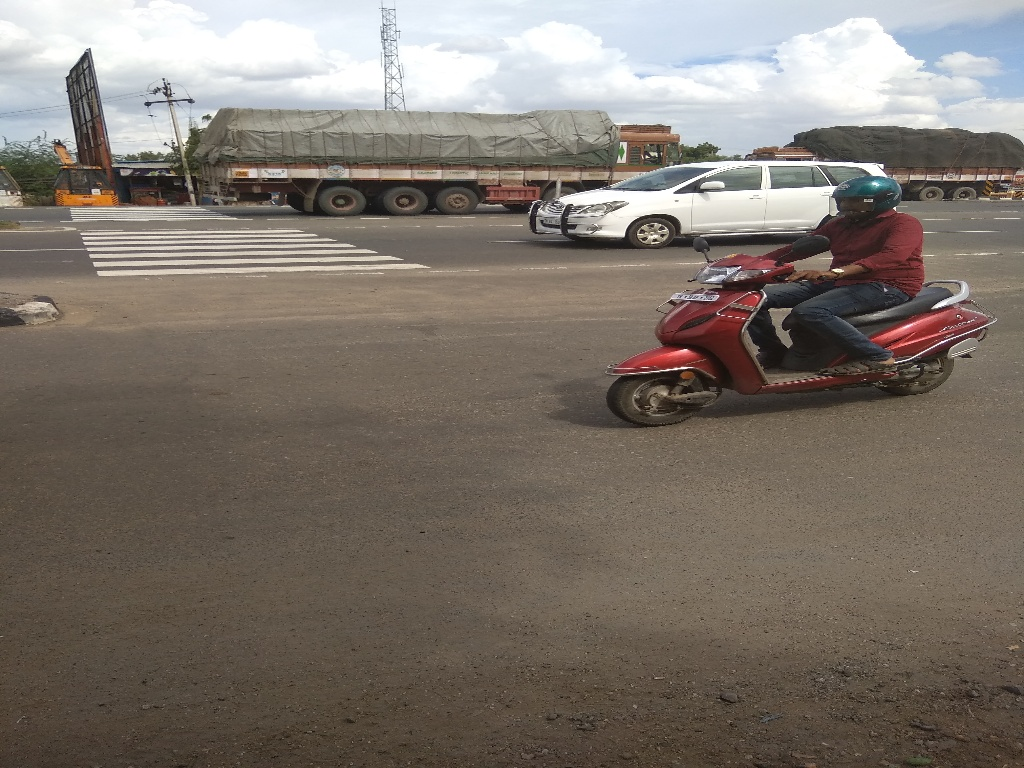biker: (589, 132, 1010, 441)
helmet: (818, 167, 910, 232)
